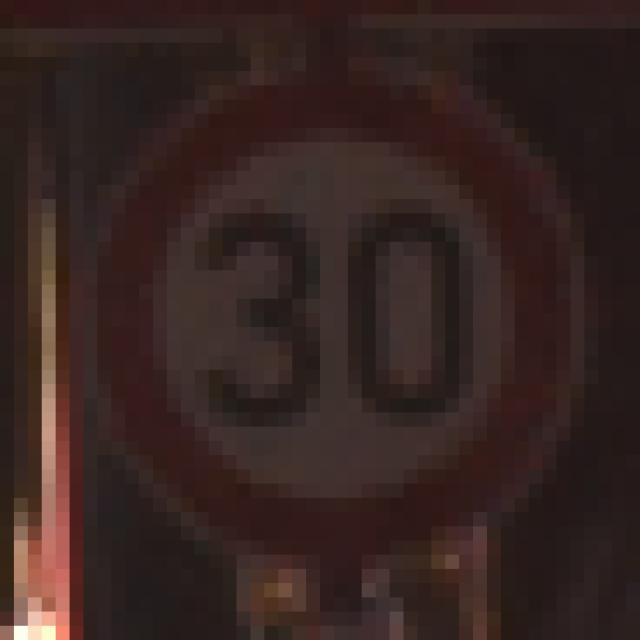Speed Limit -30-: (62, 64, 550, 562)
